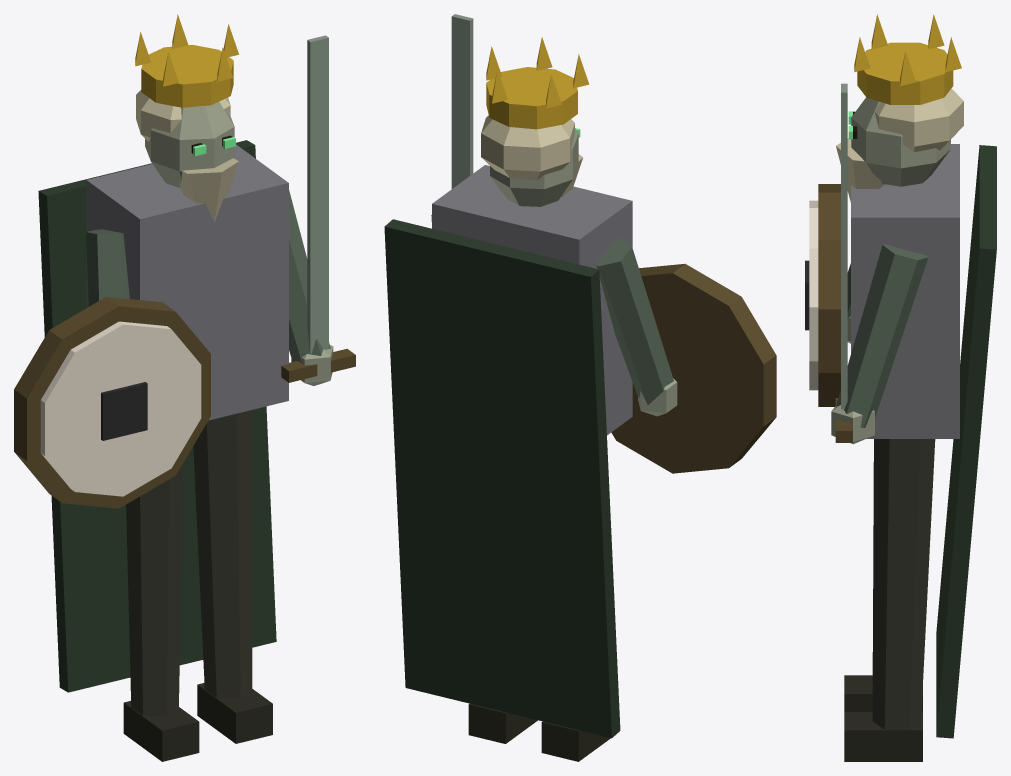
File: widukind.glb
3 renders of one model, left to right at view 1: azimuth 30°, elevation 25°; view 2: azimuth 150°, elevation 25°; view 3: azimuth 270°, elevation 25°, orthographic. The views are drawn at different scales.
Size of the model in its own units: 0.9072 by 1.78 by 0.4395.
Materials: 1 (1 with a texture image).
